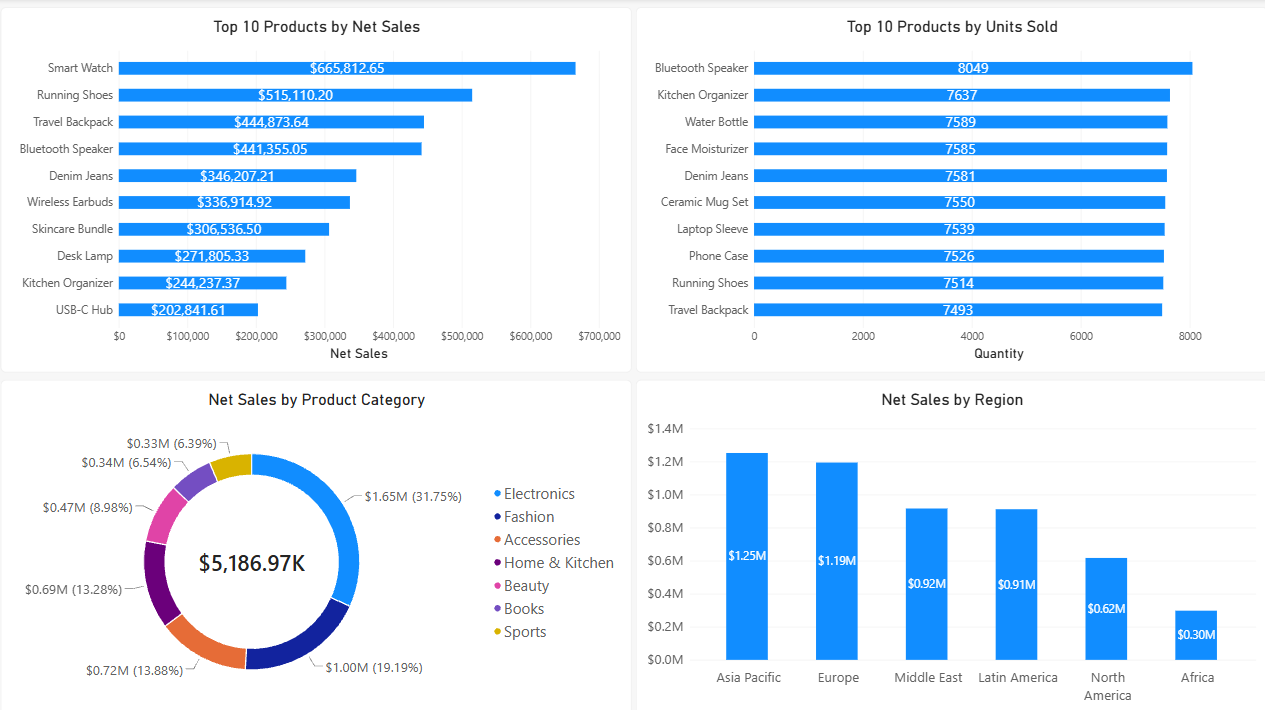

What the dashboard file says about the page in this screenshot:
{"tool":"powerbi","page":{"name":"Product Performance","canvas":[1920,1080],"ordinal":1},"visuals":[{"type":"clusteredBarChart","title":"Top 10 Products by Net Sales","fields":{"Category":["ecommerce_sales_customer_cleaned.ProductName"],"Y":["Sum(ecommerce_sales_customer_cleaned.NetSales)"]},"box":[3.9,12.5,950,550],"z":0},{"type":"clusteredBarChart","title":"Top 10 Products by Units Sold","fields":{"Category":["ecommerce_sales_customer_cleaned.ProductName"],"Y":["Sum(ecommerce_sales_customer_cleaned.Quantity)"]},"box":[961.1,12.5,951,550],"z":1000},{"type":"donutChart","title":"Net Sales by Product Category","fields":{"Category":["ecommerce_sales_customer_cleaned.Category"],"Y":["Sum(ecommerce_sales_customer_cleaned.NetSales)"]},"box":[4,573,950,507],"z":2000},{"type":"clusteredColumnChart","title":"Net Sales by Region","fields":{"Category":["ecommerce_sales_customer_cleaned.Region"],"Y":["Sum(ecommerce_sales_customer_cleaned.NetSales)"]},"box":[961,573,951,507],"z":3000}]}

Visuals, with their boxes in screenshot pixels (x1, y1, x2, y2), scaled from the page's 1920x1080 canvas onto the 1265x710 screenshot:
"Top 10 Products by Net Sales" clusteredBarChart: {"left": 3, "top": 8, "right": 628, "bottom": 370}
"Top 10 Products by Units Sold" clusteredBarChart: {"left": 633, "top": 8, "right": 1260, "bottom": 370}
"Net Sales by Product Category" donutChart: {"left": 3, "top": 377, "right": 629, "bottom": 709}
"Net Sales by Region" clusteredColumnChart: {"left": 633, "top": 377, "right": 1260, "bottom": 709}
